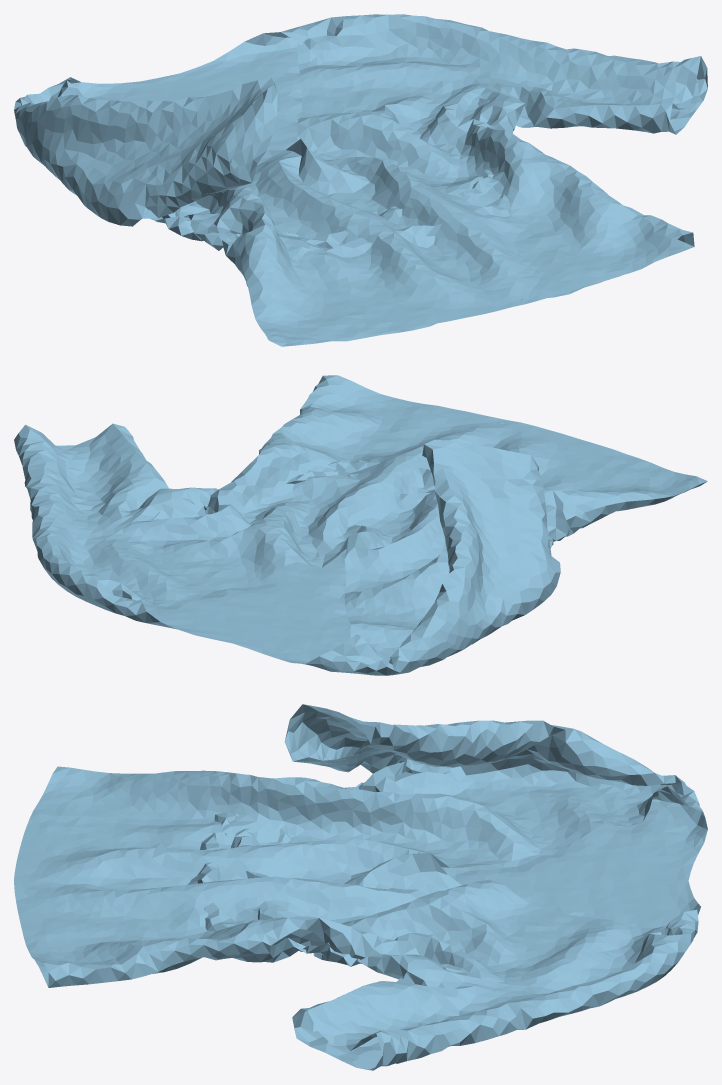
File: frame_15.glb
The picture shows the model from 3 angles, top to bottom: view 1: azimuth 30°, elevation 25°; view 2: azimuth 150°, elevation 25°; view 3: azimuth 270°, elevation 25°; orthographic projection. The views are drawn at different scales.
Visible parts, largest first — view 1: frame_15.obj; view 2: frame_15.obj; view 3: frame_15.obj.
Part boxes in pixels (left/top/right/bottom): frame_15.obj: left=14, top=14, right=707, bottom=346; frame_15.obj: left=14, top=375, right=707, bottom=675; frame_15.obj: left=14, top=704, right=707, bottom=1070.
Bounding box in the file's own units: 1.54 × 0.3139 × 1.49.
